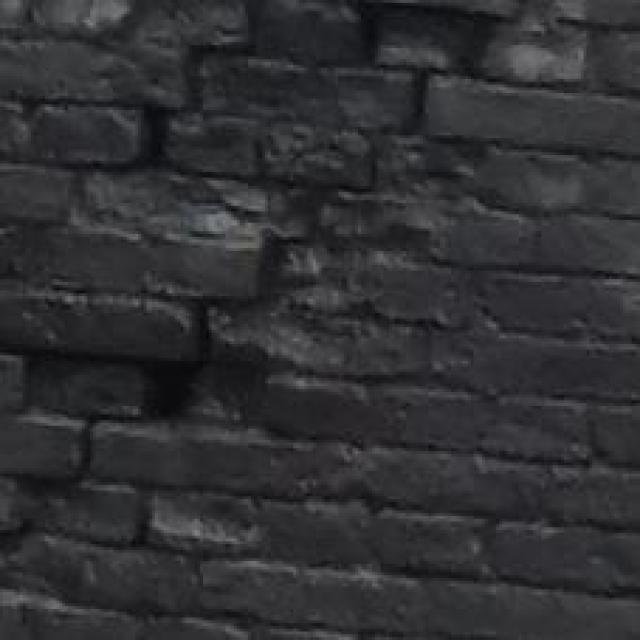Crack: (45, 0, 507, 482)
